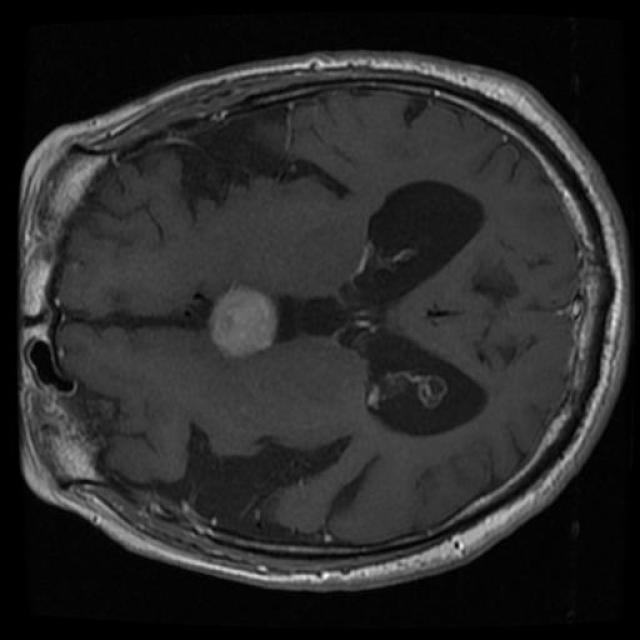Pituitary: (209, 286, 276, 357)
